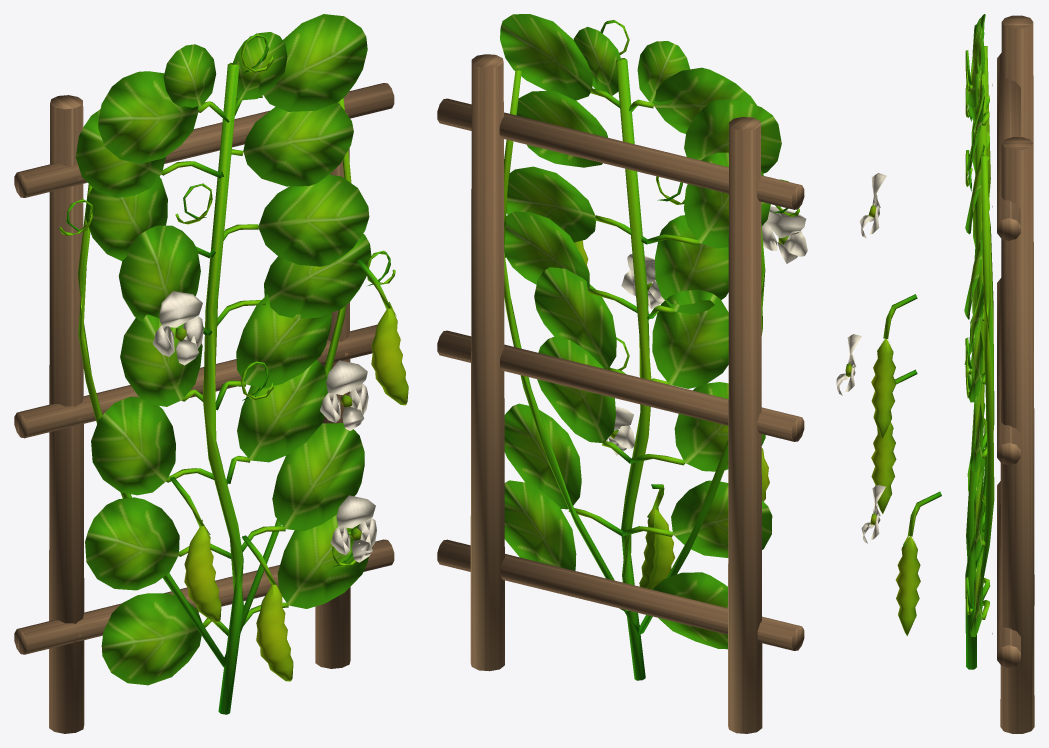
The model's file is NP_Pea_Flowering_LOD1.fbx.
3 views of the same model, side by side, from view 1: azimuth 30°, elevation 25°; view 2: azimuth 150°, elevation 25°; view 3: azimuth 270°, elevation 25° (orthographic). The views are drawn at different scales.
Parts seen in each view (by area): view 1: NP_Pea_Flowering; view 2: NP_Pea_Flowering; view 3: NP_Pea_Flowering.
Part boxes in pixels (x1=…): NP_Pea_Flowering: x1=14, y1=14, x2=408, y2=733; NP_Pea_Flowering: x1=437, y1=14, x2=807, y2=733; NP_Pea_Flowering: x1=836, y1=14, x2=1034, y2=733.
Size of the model in its own units: 64.85 by 114 by 32.38.
